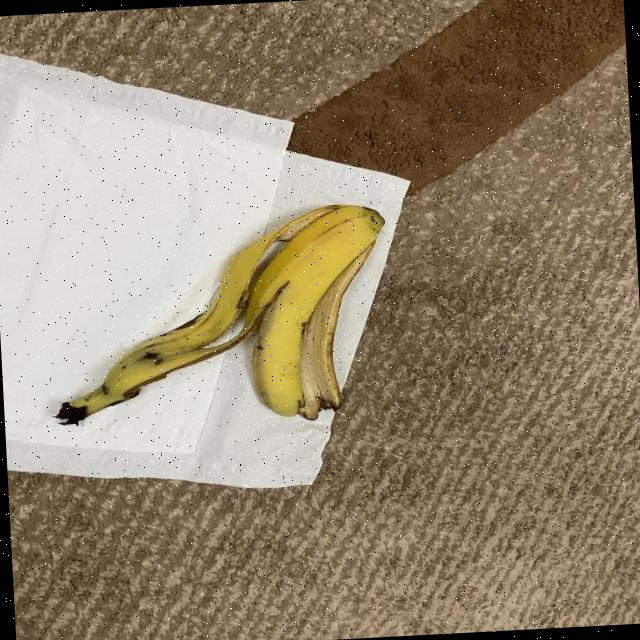banana-peel: (44, 200, 395, 433)
